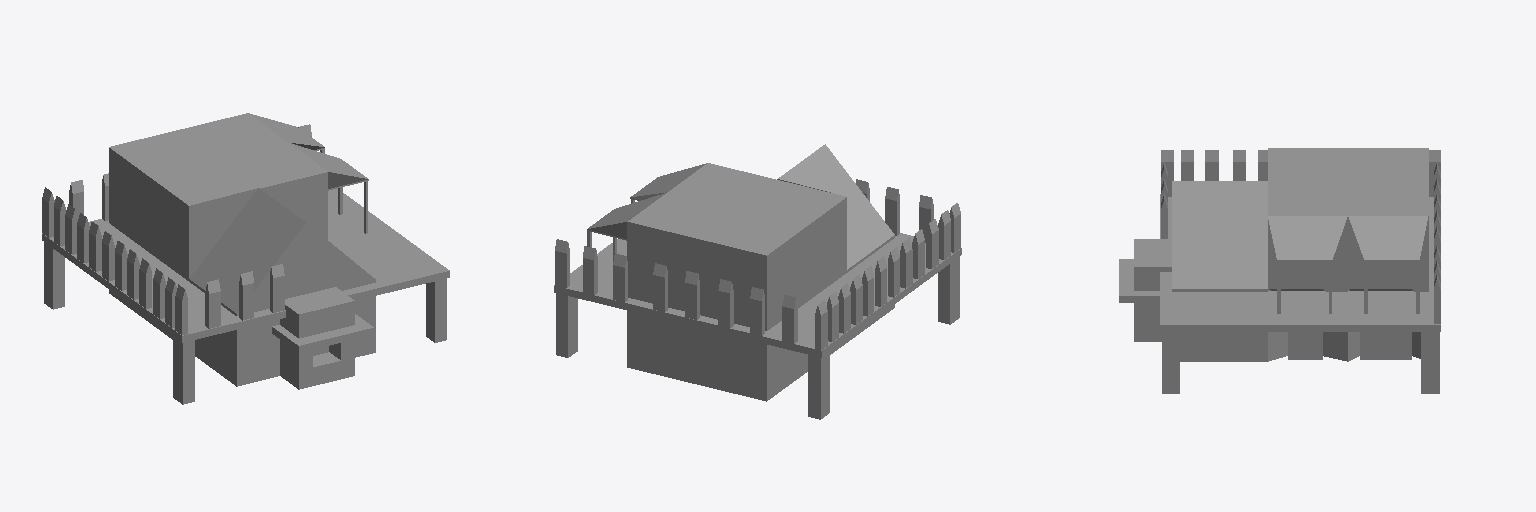
File: house.obj
3 views of the same model, side by side, from view 1: azimuth 30°, elevation 25°; view 2: azimuth 150°, elevation 25°; view 3: azimuth 270°, elevation 25° (orthographic).
Parts seen in each view (by area): view 1: Cube; view 2: Cube; view 3: Cube.
Part boxes in pixels (bbox=[...]): Cube: bbox=[42, 113, 449, 404]; Cube: bbox=[554, 144, 961, 419]; Cube: bbox=[1119, 148, 1440, 393].
Bounding box in the file's own units: 3.75 × 1.97 × 3.91.